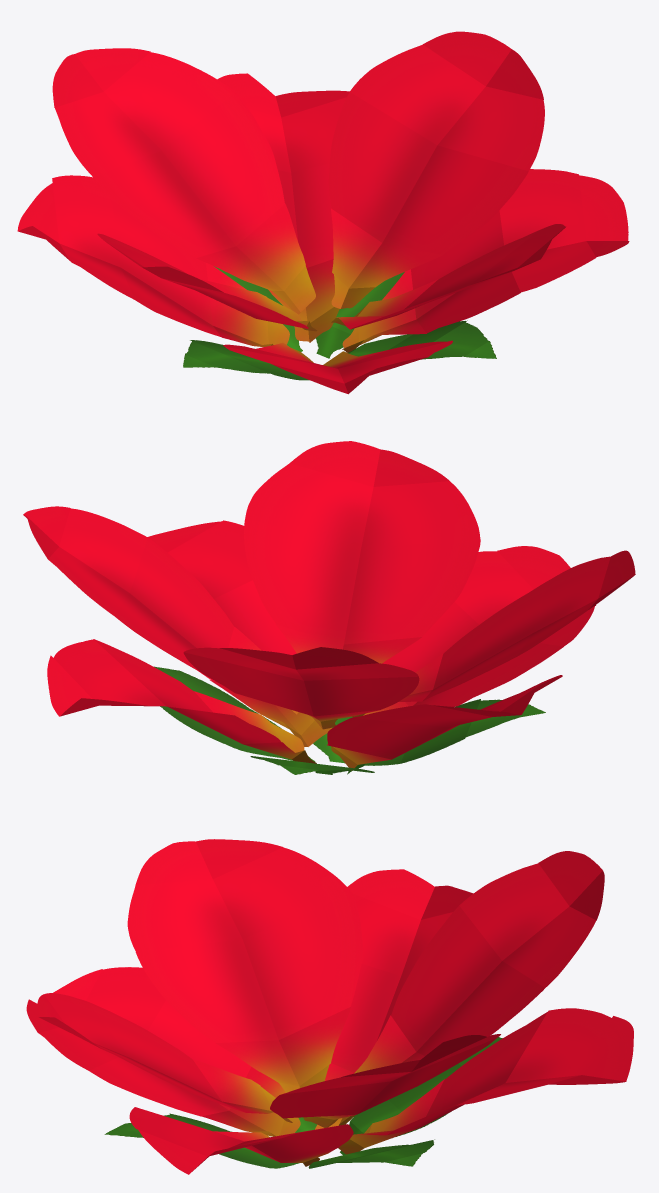
File: cicek_4.fbx
The picture shows the model from 3 angles, top to bottom: view 1: azimuth 30°, elevation 25°; view 2: azimuth 150°, elevation 25°; view 3: azimuth 270°, elevation 25°; orthographic projection. The views are drawn at different scales.
Visible parts, largest first — view 1: cicek_04; view 2: cicek_04; view 3: cicek_04.
Part boxes in pixels (x1,y1,x2,y2): cicek_04: (17,31,629,394); cicek_04: (23,441,635,774); cicek_04: (26,839,633,1174).
Bounding box in the file's own units: 0.2152 × 0.2183 × 0.1046.
